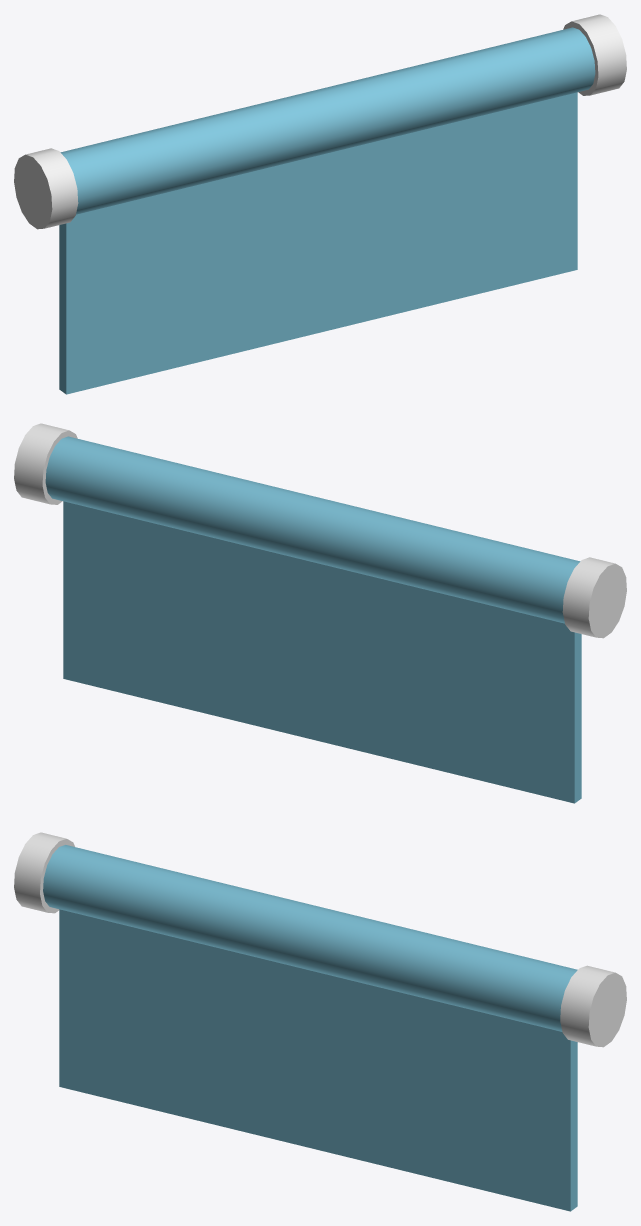
Rendered from Roller blinds 2.fbx.
3 renders of one model, top to bottom at view 1: azimuth 30°, elevation 25°; view 2: azimuth 150°, elevation 25°; view 3: azimuth 330°, elevation 25°, orthographic.
Parts seen in each view (by area): view 1: Roller blinds 2; view 2: Roller blinds 2; view 3: Roller blinds 2.
Boxes of the visible parts, box(x1,y1,x2,y2) form: Roller blinds 2: box(14, 14, 626, 394); Roller blinds 2: box(14, 423, 626, 803); Roller blinds 2: box(14, 832, 626, 1211).
Size of the model in its own units: 264 by 106 by 30.47.
